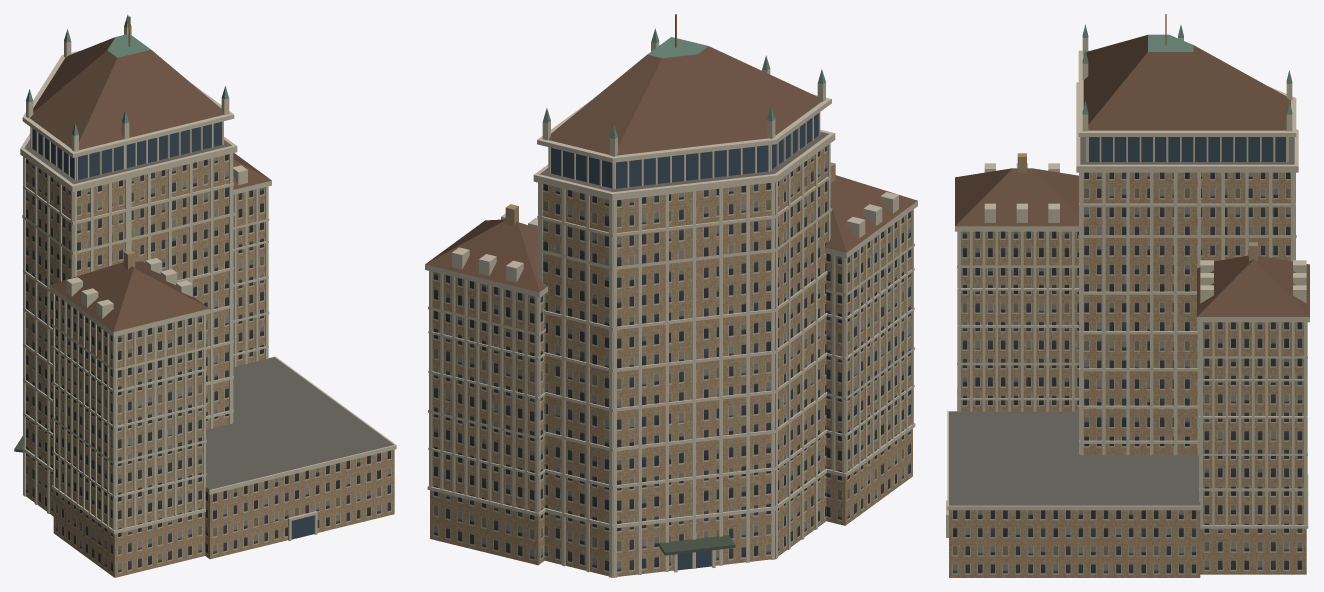
The model's file is mark_hopkins.glb.
3 views of the same model, side by side, from view 1: azimuth 30°, elevation 25°; view 2: azimuth 150°, elevation 25°; view 3: azimuth 270°, elevation 25° (orthographic). The views are drawn at different scales.
Visible parts, largest first — view 1: mark_hopkins; view 2: mark_hopkins; view 3: mark_hopkins.
Boxes of the visible parts, <box> form: mark_hopkins: <box>14,14,396,577</box>; mark_hopkins: <box>425,14,917,577</box>; mark_hopkins: <box>946,14,1309,577</box>.
Bounding box in the file's own units: 59 × 93 × 63.7.
Materials: 2 (2 with a texture image).
